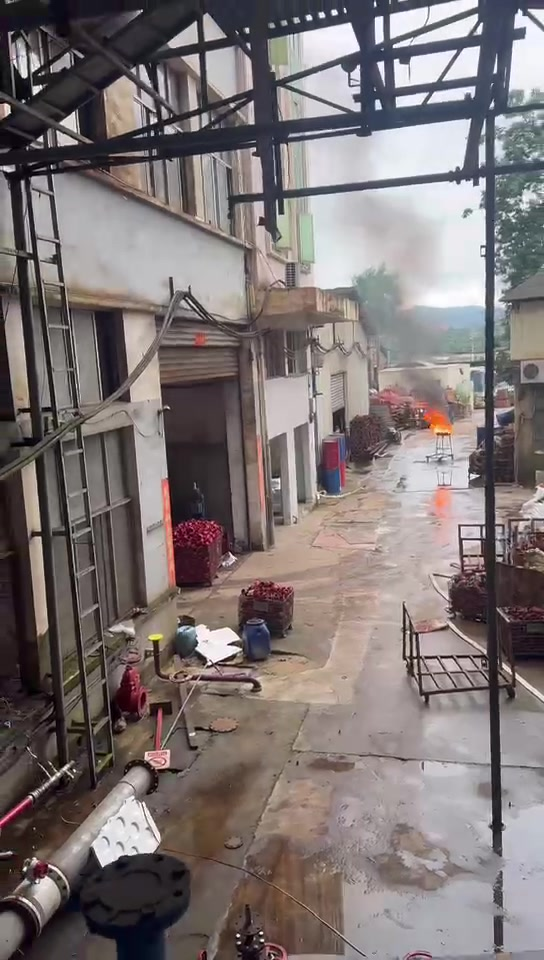fire: (424, 412, 452, 433)
